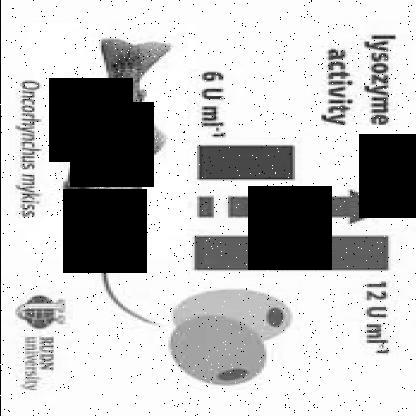fish: (62, 37, 172, 244)
